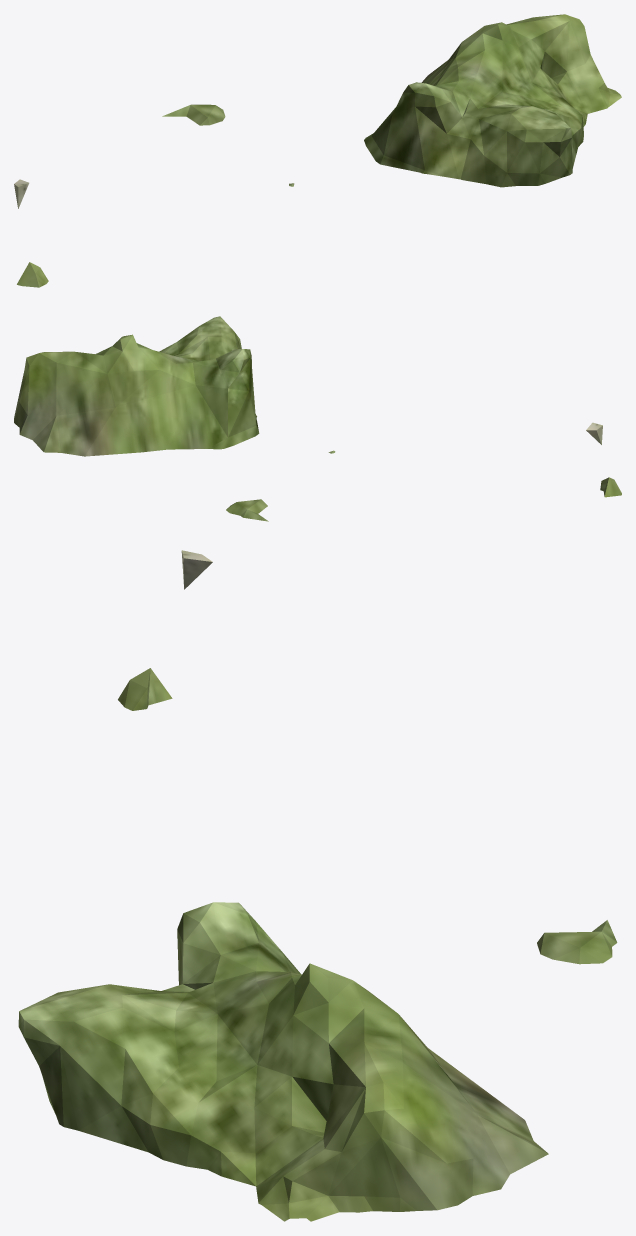
3 renders of one model, top to bottom at view 1: azimuth 30°, elevation 25°; view 2: azimuth 150°, elevation 25°; view 3: azimuth 270°, elevation 25°, orthographic. The views are drawn at different scales.
Bounding box in the file's own units: 2.71 × 0.3843 × 1.29.
1 material, 1 textured.
